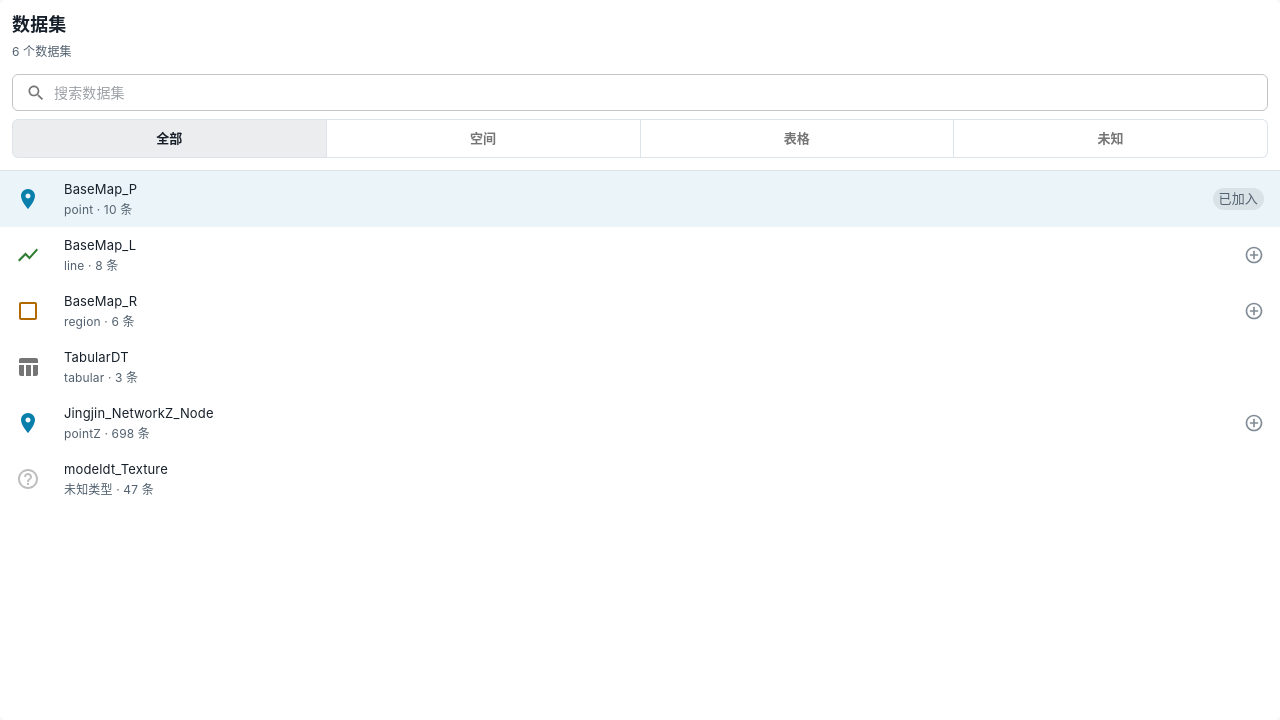
Test: DatasetExplorer › 按数据集名称搜索
The width and height of the screenshot is (1280, 720).
Type "Jingjin" into the field labelled "搜索数据集" at (661, 93), box [54,74,1268,111]
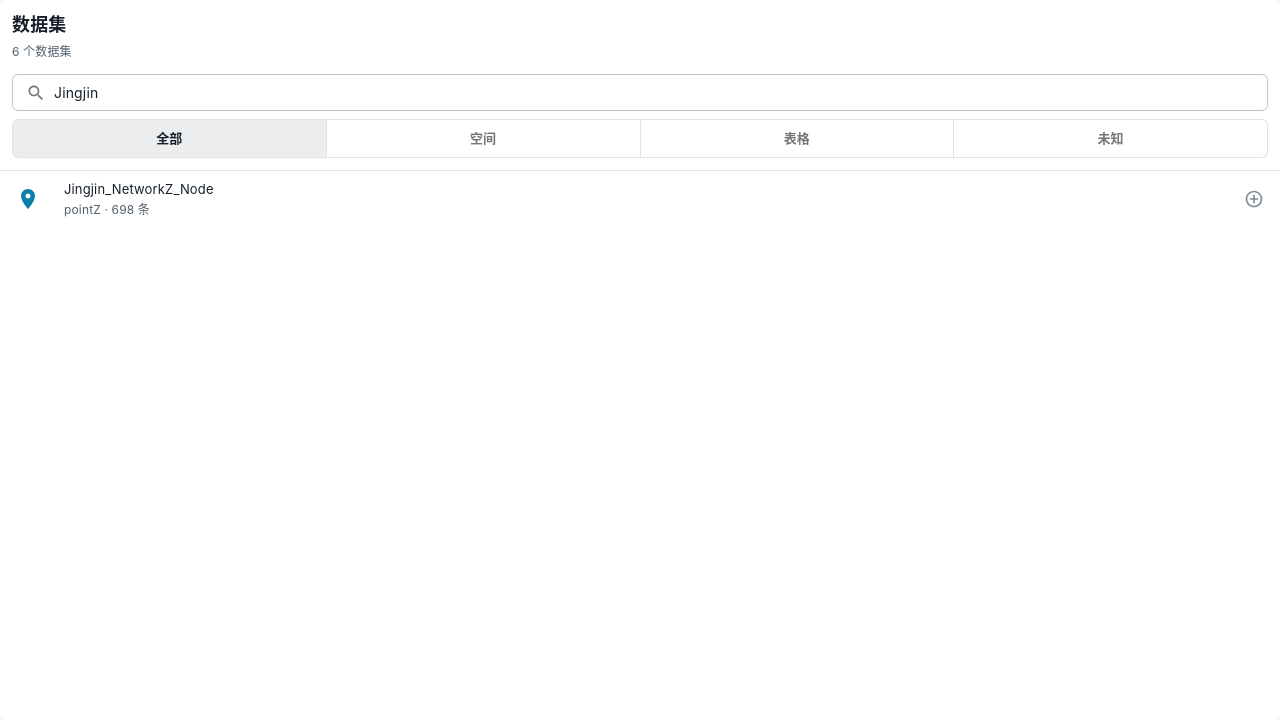
Expected: the text "Jingjin_NetworkZ_Node" is shown, [64,181,214,197]
Expected: the button "BaseMap_P" is gone
